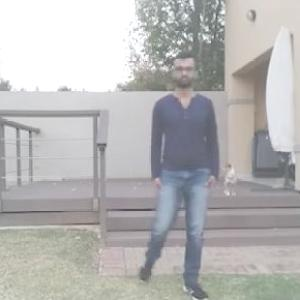follow: (138, 49, 219, 294)
